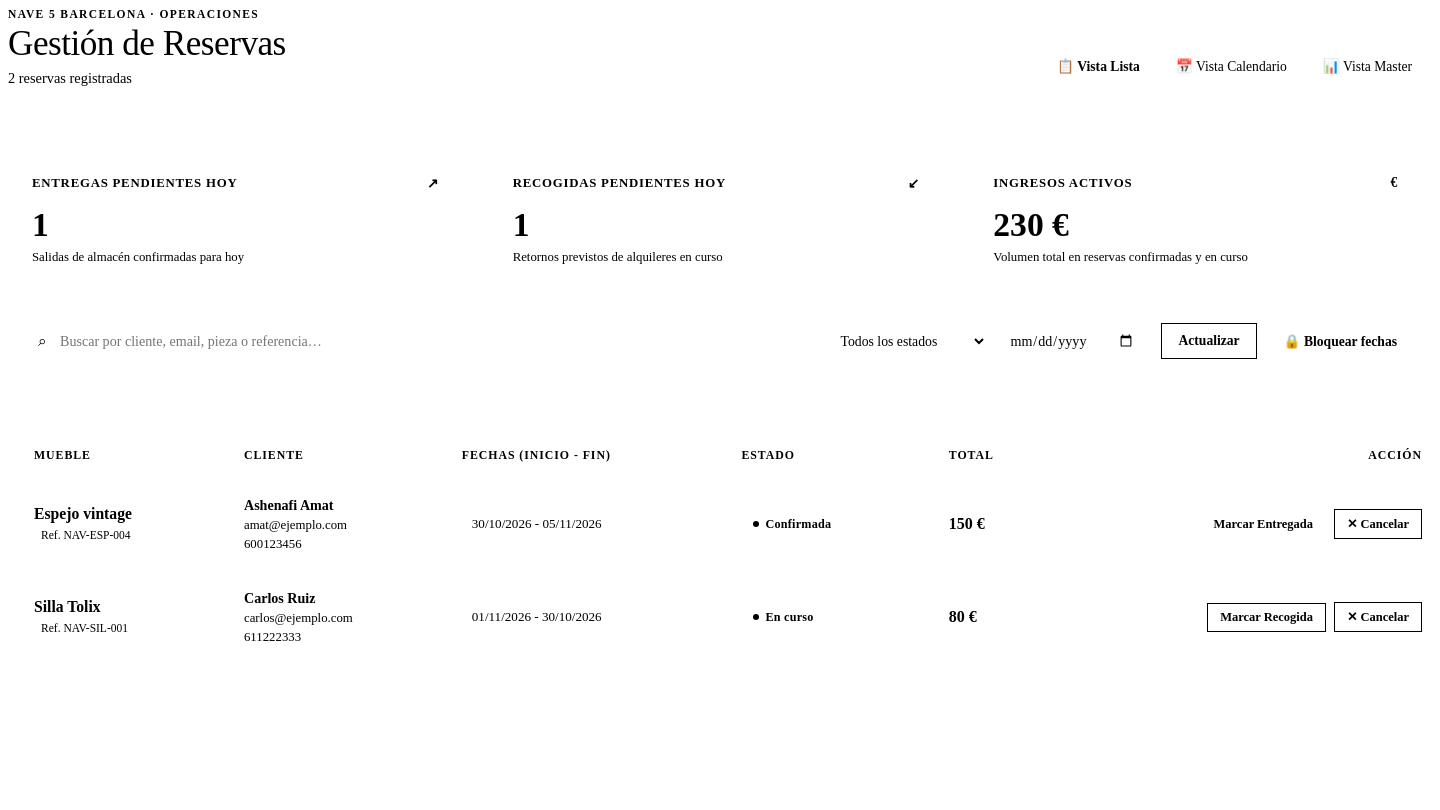
Test: ReservasTab — Panel Rediseñado de Reservas (Editorial, KPIs, 3 Vistas) › Buscador y Filtros › el buscador filtra por nombre de cliente y por referencia de pieza
Expected: the text "Espejo vintage" is shown, [34,506,132,522]
Expected: the text "Silla Tolix" is shown, [34,598,101,616]
// Filtrar por cliente
Type "Carlos" into the search field named "Buscar reservas" at (419, 342), box [26,324,812,359]
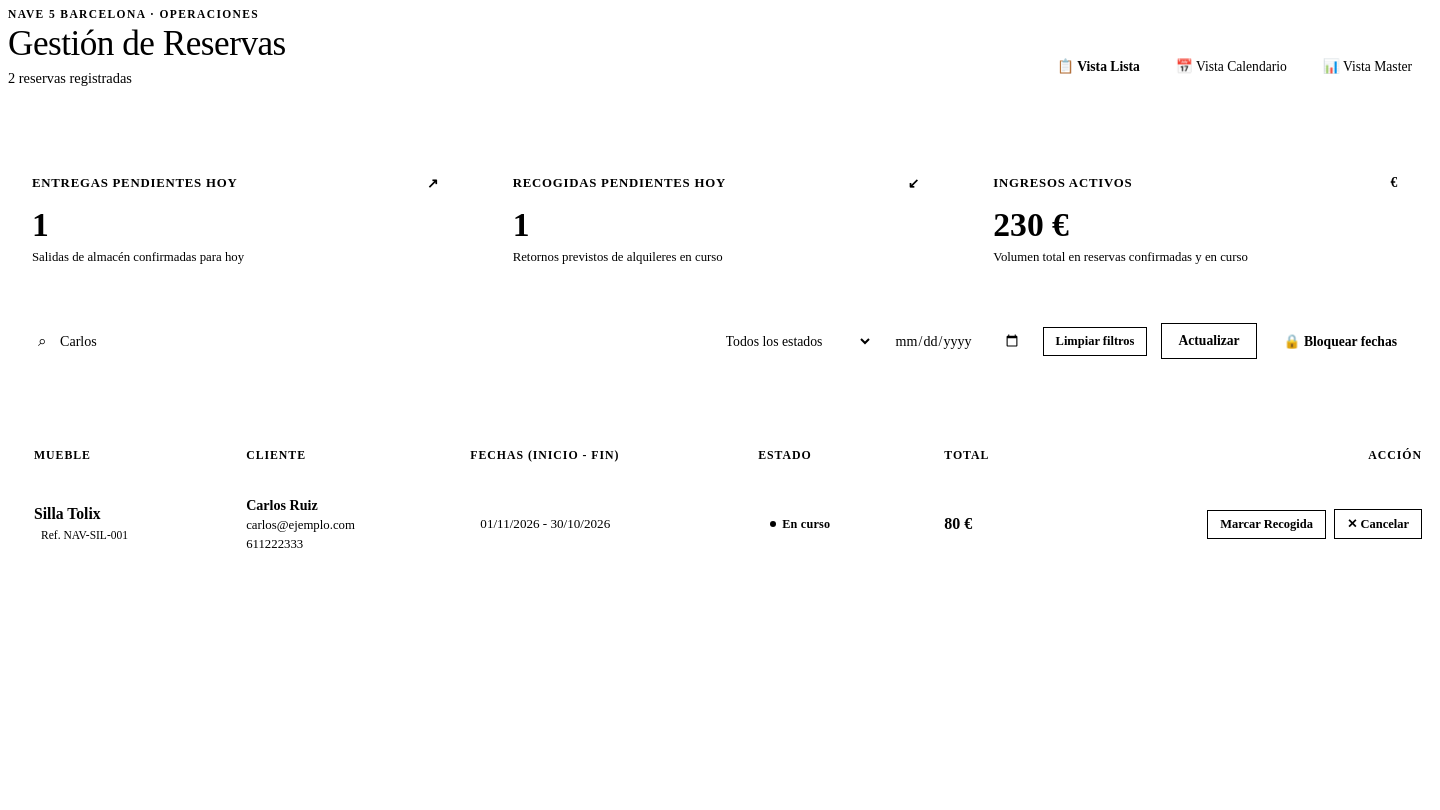
Expected: the text "Silla Tolix" is shown, [34,506,101,522]
Result: the text "Espejo vintage" is gone
// Filtrar por referencia
Replace the text in the search field named "Buscar reservas" with "NAV-ESP-004" at (362, 342), box [26,324,698,359]
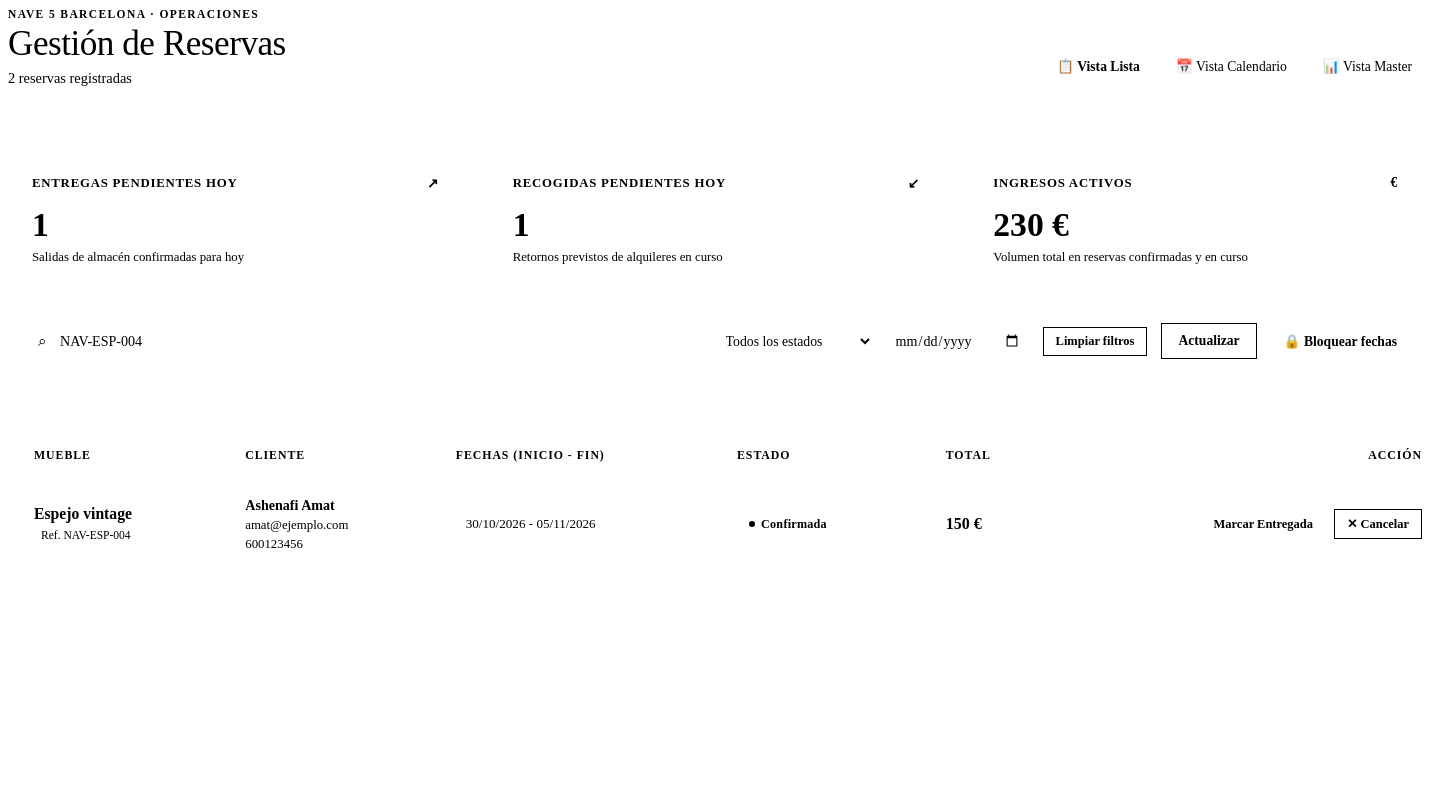
Result: the text "Espejo vintage" is shown at [34,506,132,522]
Result: the text "Silla Tolix" is gone
// Limpiar filtros
Click the button "Limpiar filtros" at (1095, 342), box [1043,327,1148,356]
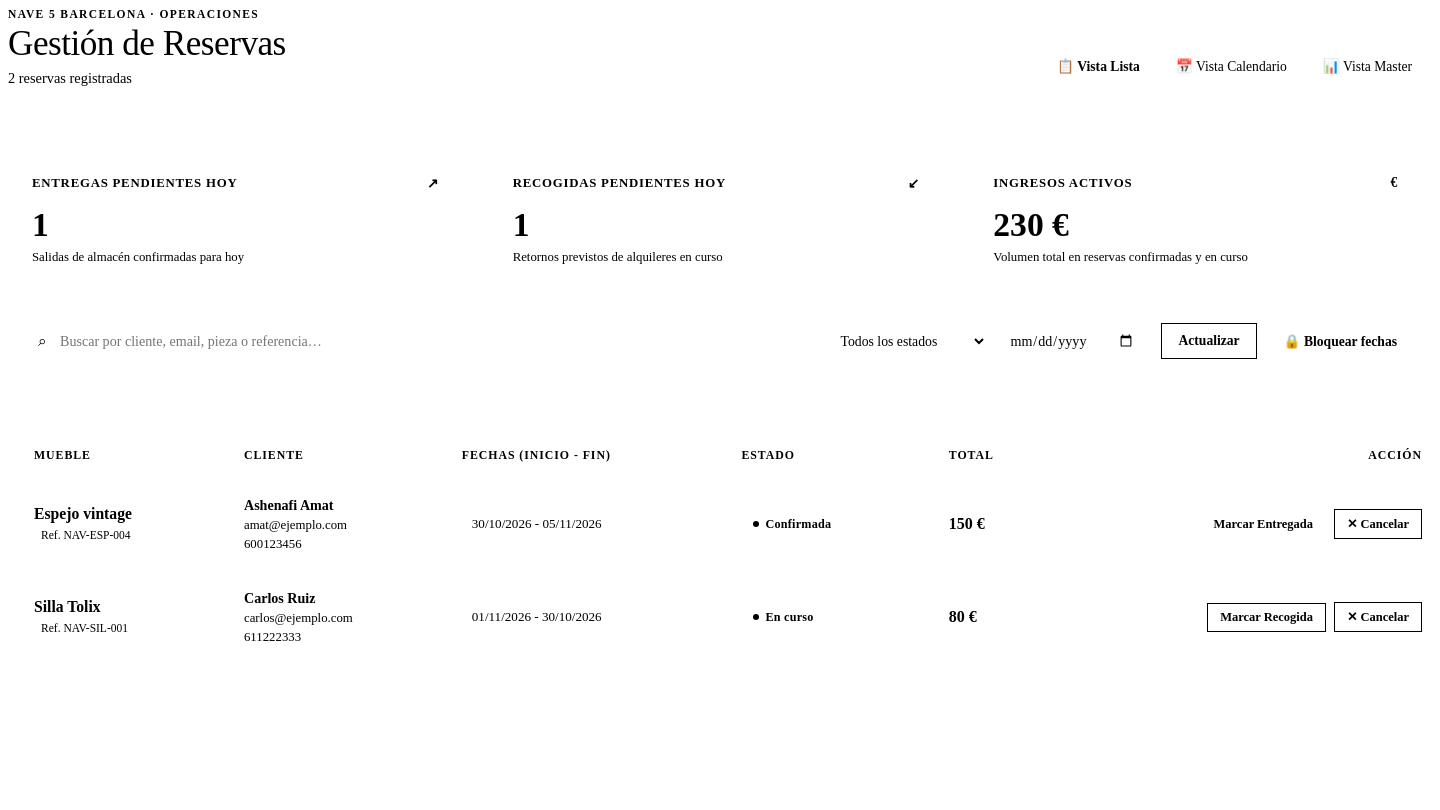
Result: the text "Espejo vintage" is shown at [34,506,132,522]
Result: the text "Silla Tolix" is shown at [34,598,101,616]
